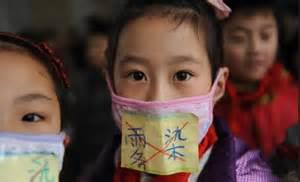NONE: (228, 24, 278, 76)
OK: (1, 89, 65, 182)
WRONG: (115, 52, 216, 153)
